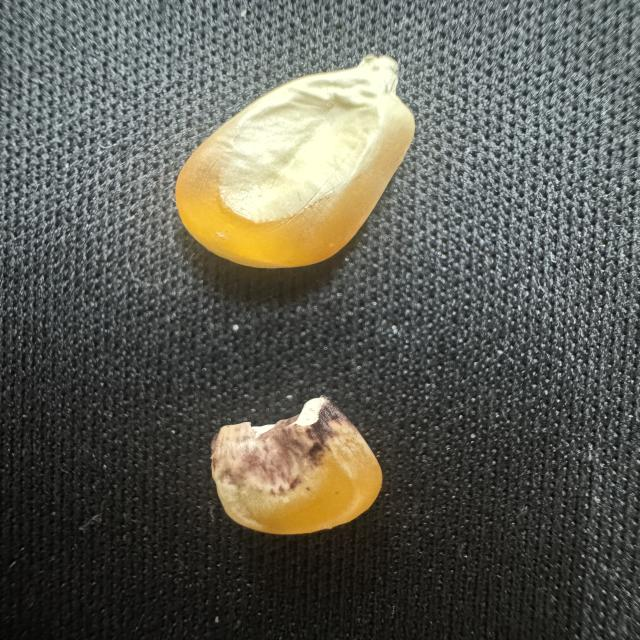Bad-Seed: (200, 391, 388, 539)
Good-Seed: (170, 47, 420, 274)
